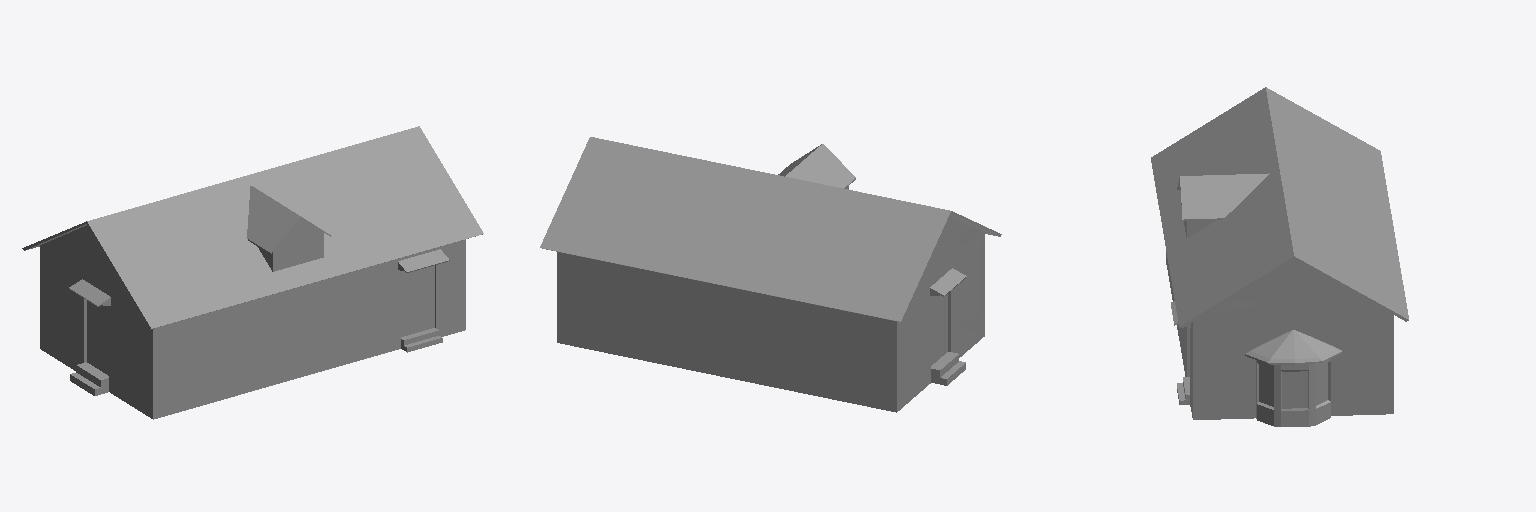
The model's file is cottage.obj.
3 renders of one model, left to right at view 1: azimuth 30°, elevation 25°; view 2: azimuth 150°, elevation 25°; view 3: azimuth 270°, elevation 25°, orthographic.
Parts seen in each view (by area): view 1: default; view 2: default; view 3: default.
Boxes of the visible parts, x1,y1,x2,y2 form: default: [22, 126, 483, 419]; default: [540, 137, 1001, 412]; default: [1151, 87, 1408, 426].
Size of the model in its own units: 9 by 3.89 by 5.5.